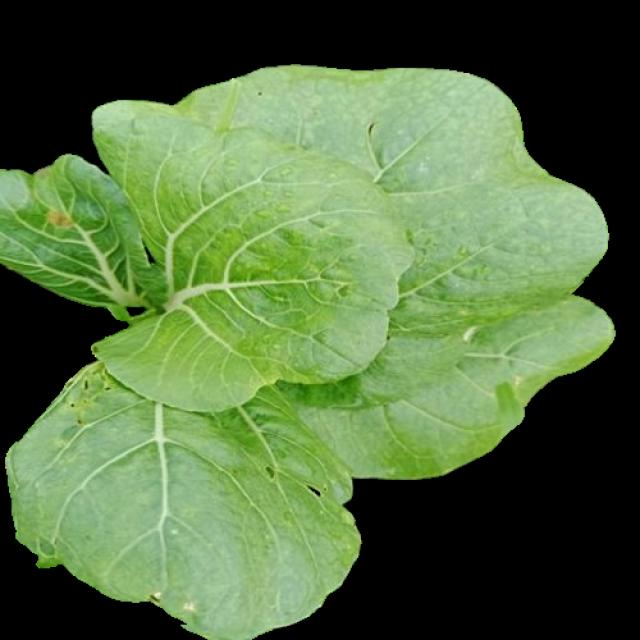mature: (1, 67, 617, 636)
unhealthy: (100, 76, 609, 473), (14, 353, 360, 632), (120, 123, 393, 415), (1, 156, 131, 301)
